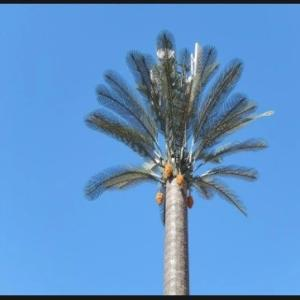palm tree: (82, 28, 273, 295)
